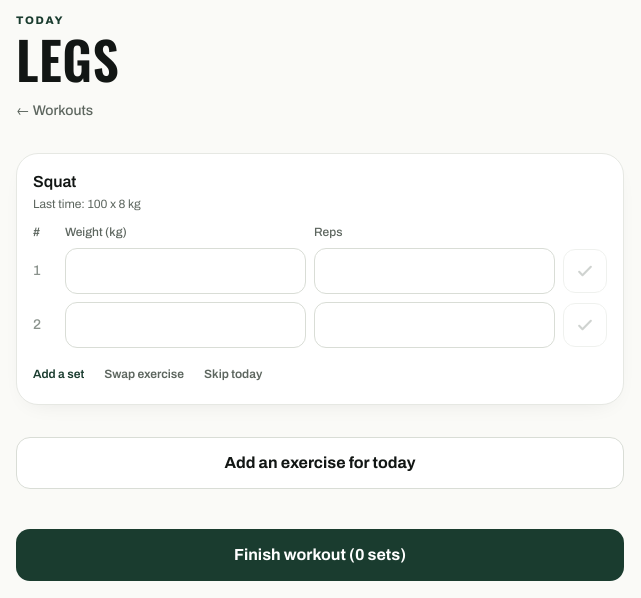
Scenario: finishing › summarises the work and marks the day done
Type "100" into the number field named "Squat set 1 weight" at (186, 271), box [65, 248, 306, 294]
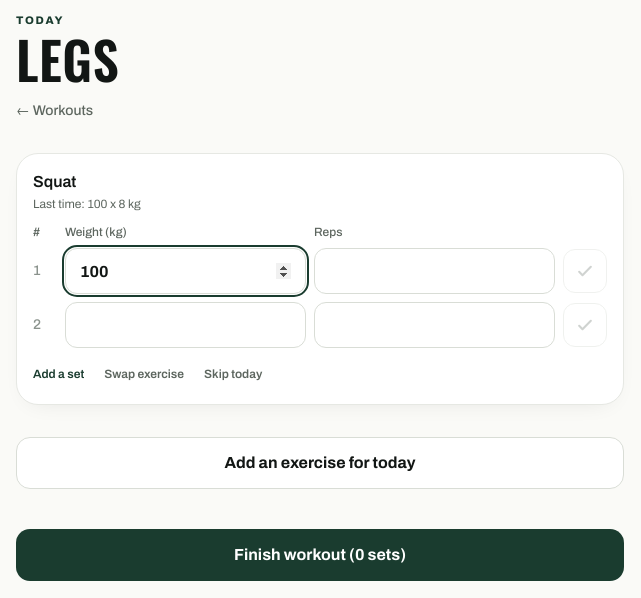
Type "8" into the number field named "Squat set 1 reps" at (434, 271), box [314, 248, 555, 294]
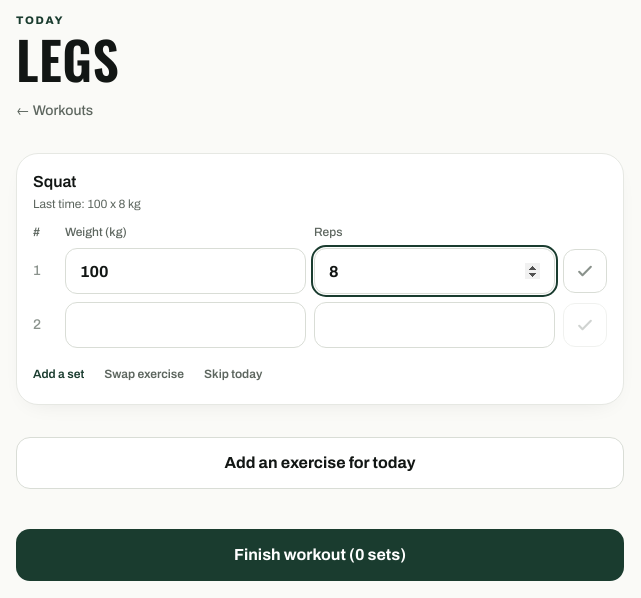
Click the button named "Log Squat set 1" at (585, 271), box [563, 249, 607, 293]
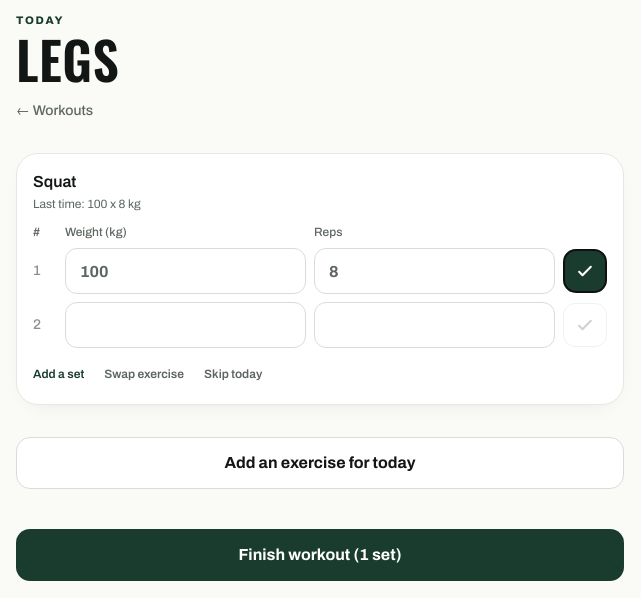
Click the button "Finish workout (1 set)" at (320, 555), box [16, 529, 624, 581]
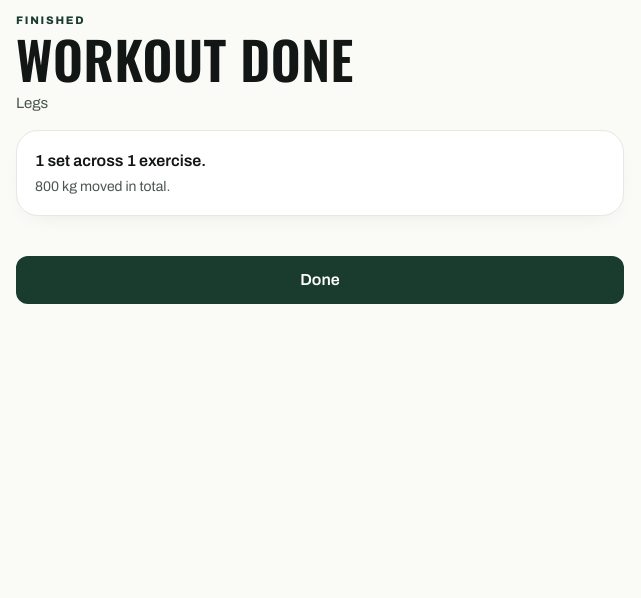
Check: the text "1 set across 1 exercise." is shown, box [35, 152, 206, 169]
